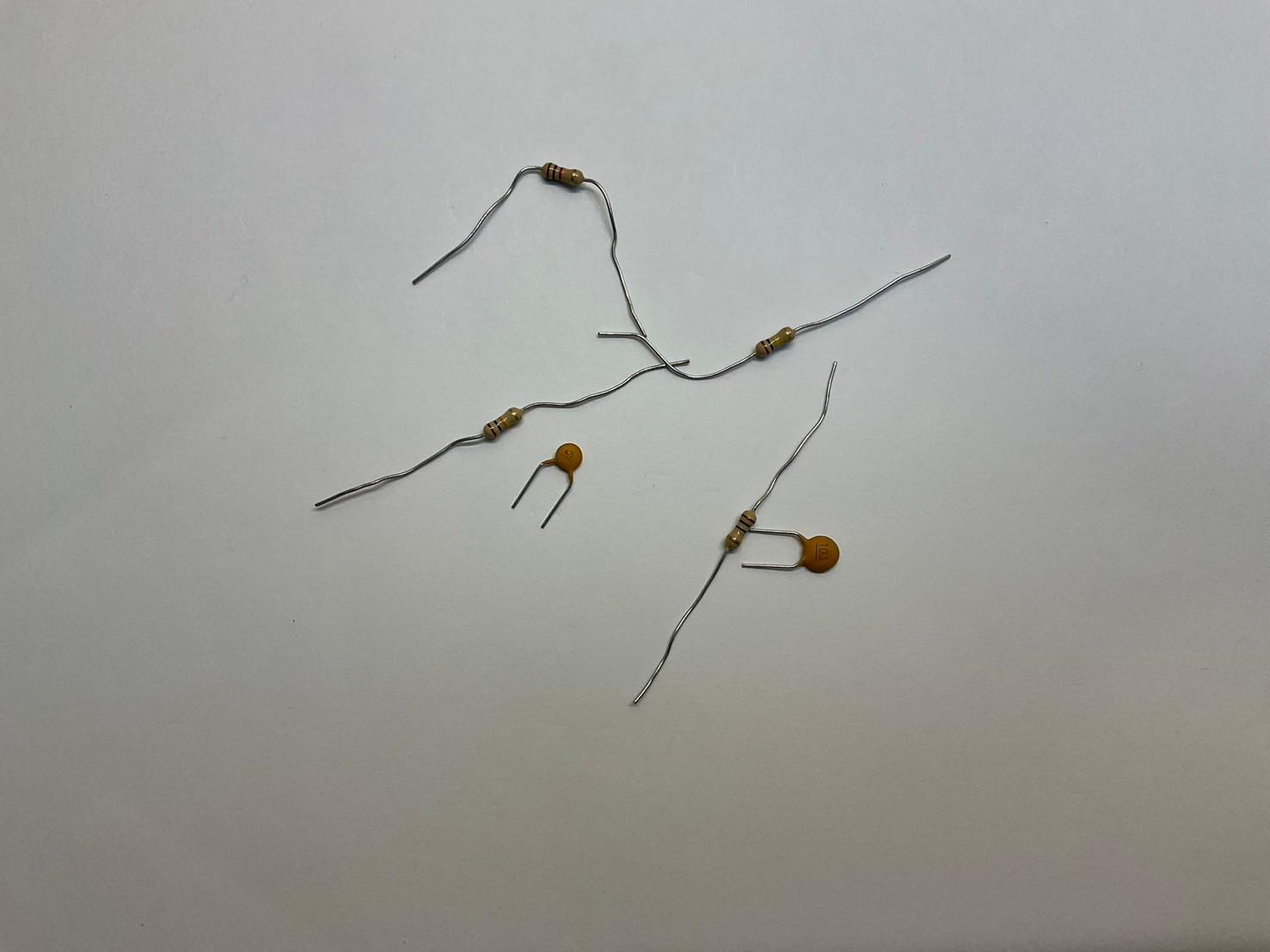resistor: (755, 322, 796, 363), (722, 510, 757, 551), (538, 160, 585, 190), (484, 406, 523, 440)
